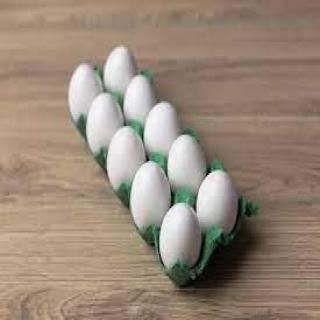Egg: (57, 42, 255, 289)
